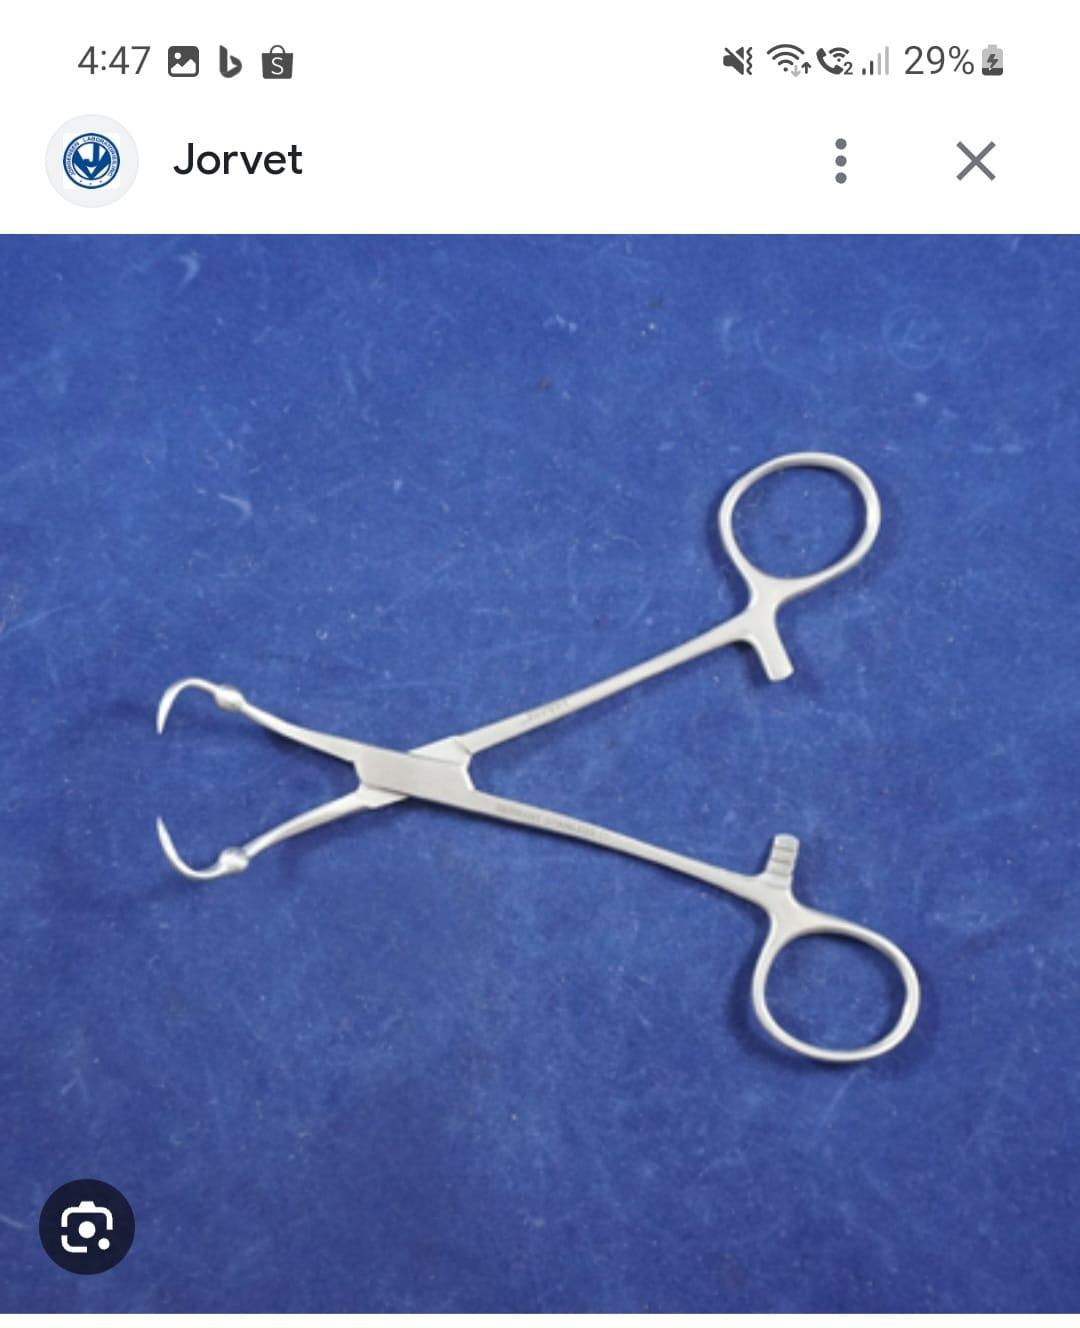Backhaus: (136, 442, 944, 1076)
